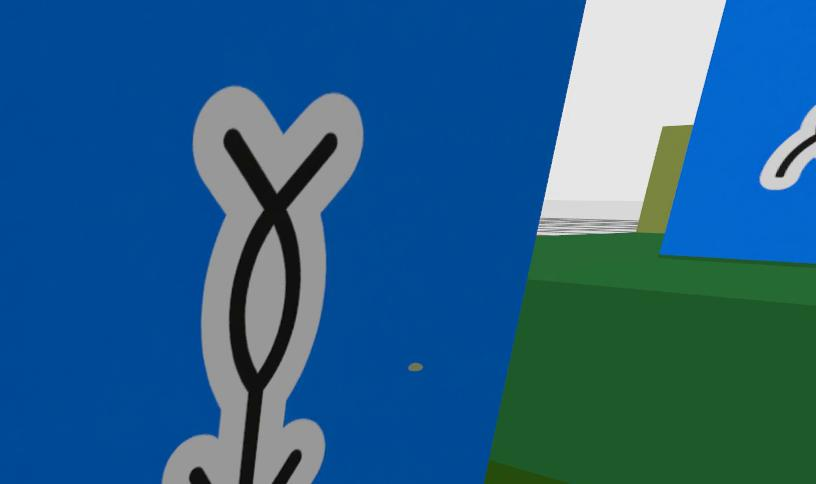KFS_REAL: (0, 0, 584, 484), (158, 87, 362, 484)
